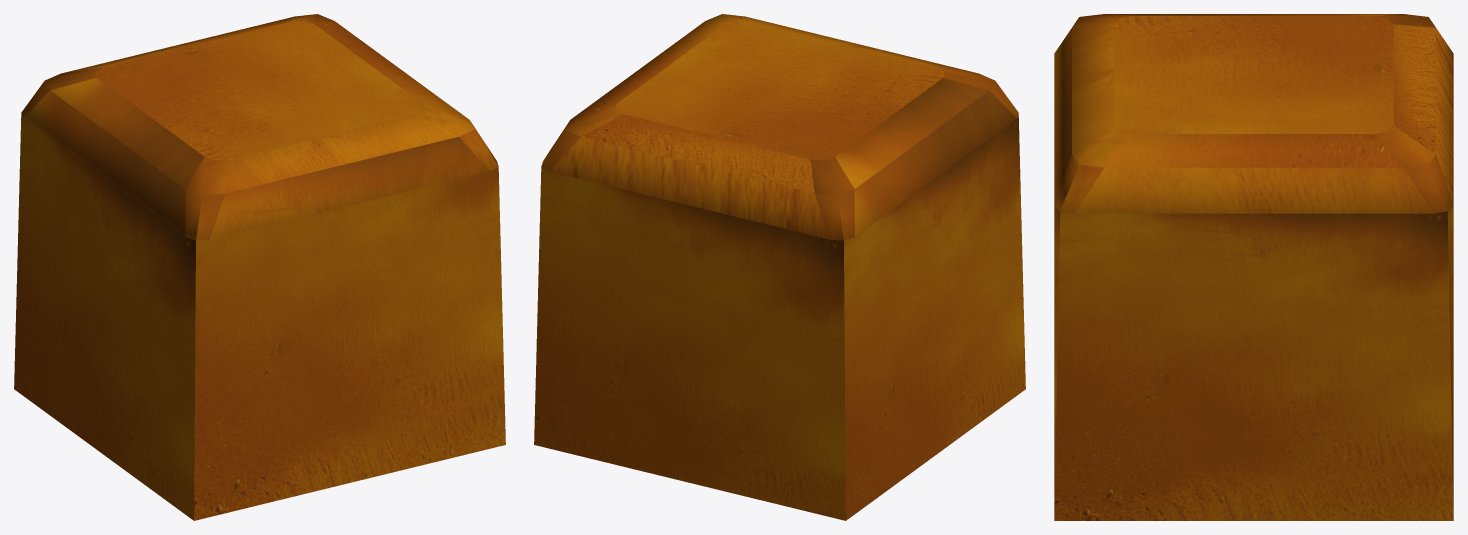
The model's file is 分數按鈕牆橘土沙漠關.fbx.
The picture shows the model from 3 angles, left to right: view 1: azimuth 30°, elevation 25°; view 2: azimuth 150°, elevation 25°; view 3: azimuth 270°, elevation 25°; orthographic projection. The views are drawn at different scales.
Visible parts, largest first — view 1: Cube; view 2: Cube; view 3: Cube.
Boxes of the visible parts, bbox=[...] form: Cube: bbox=[14, 14, 505, 520]; Cube: bbox=[534, 14, 1025, 520]; Cube: bbox=[1054, 14, 1453, 520].
Bounding box in the file's own units: 200 × 200 × 200.
1 material, 1 textured.
